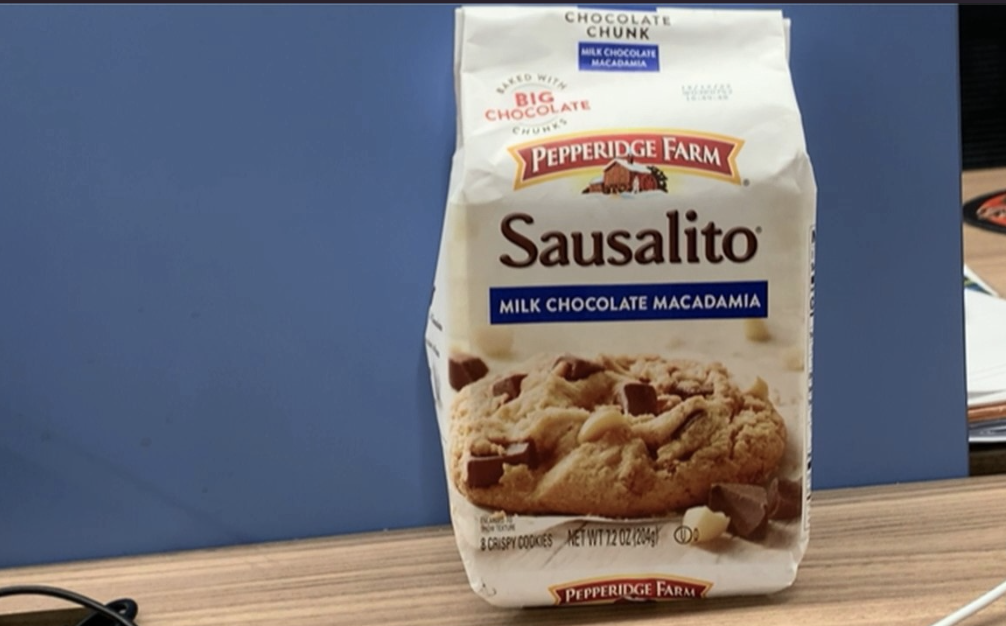cookies_150g: (467, 45, 788, 564)
